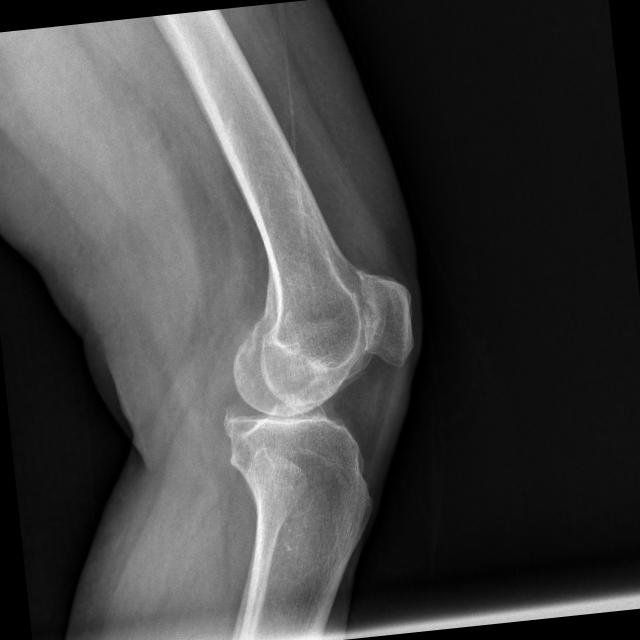Knee: (202, 262, 430, 485)
